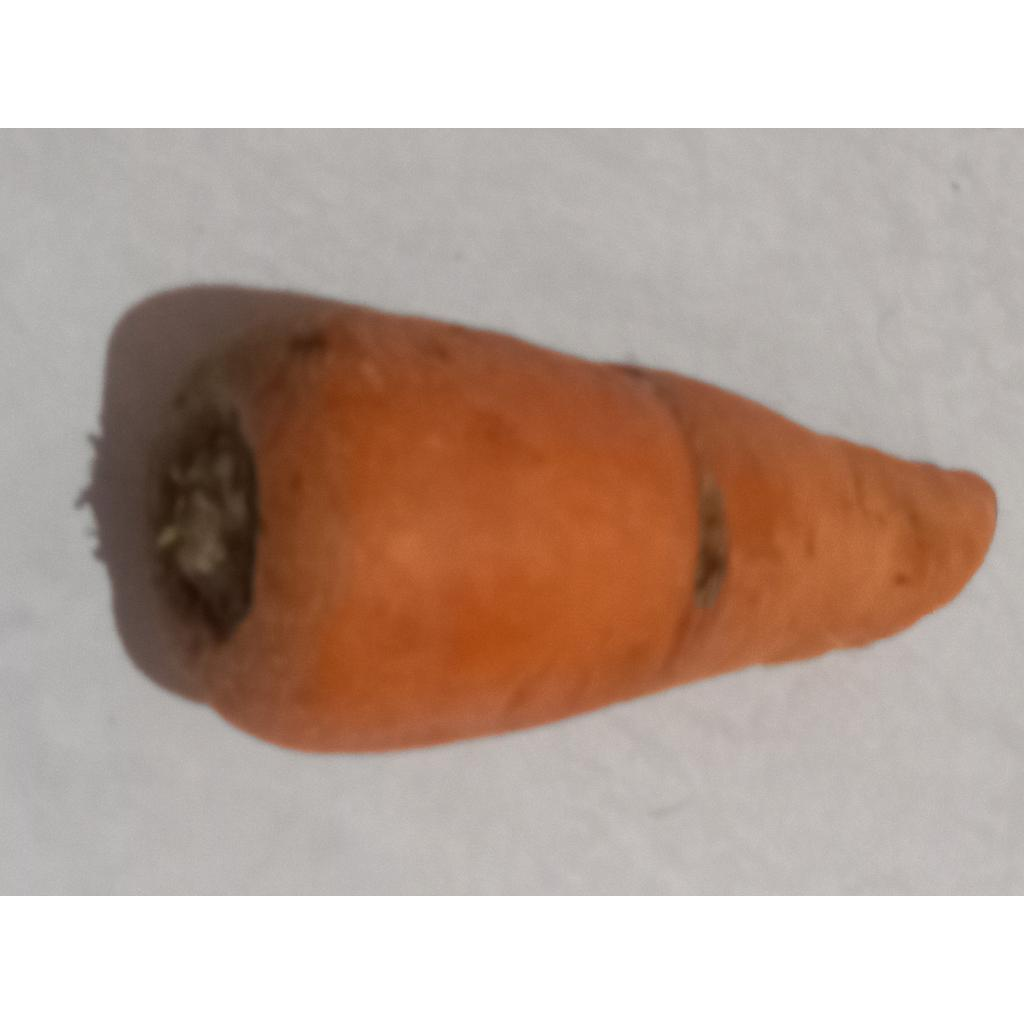carrot: (150, 306, 996, 752)
